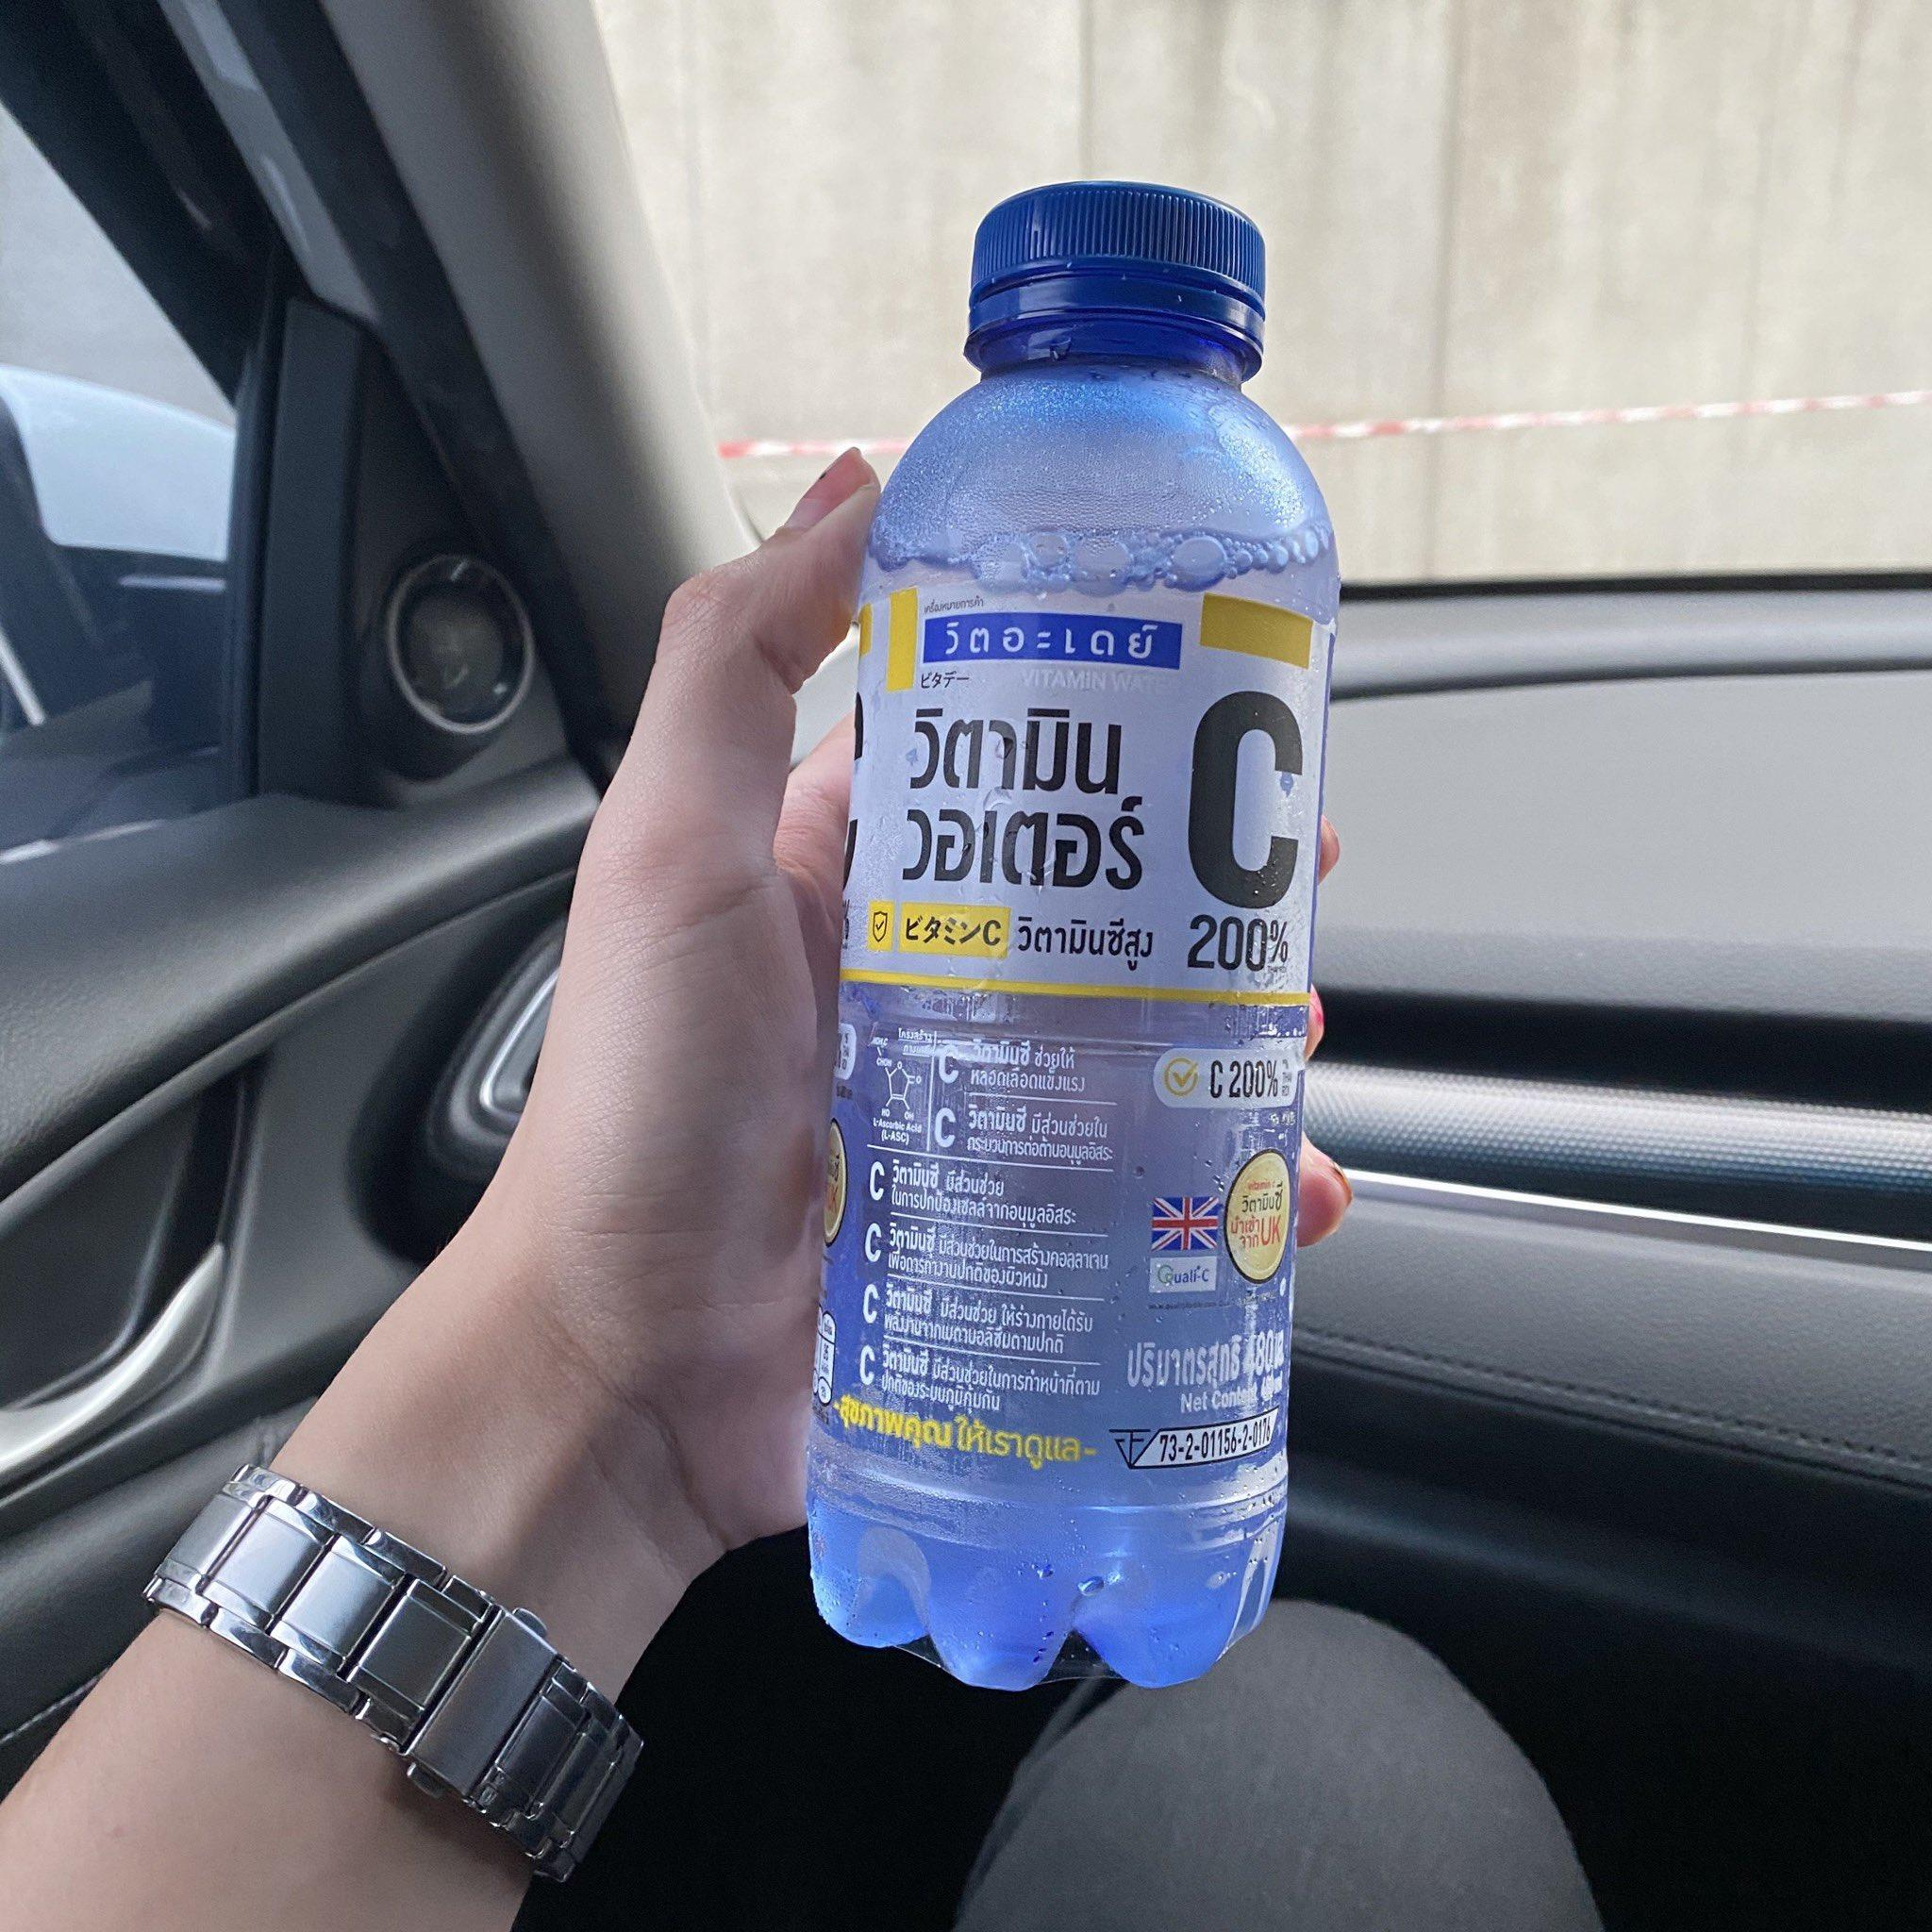bottle: (743, 149, 1373, 1720)
